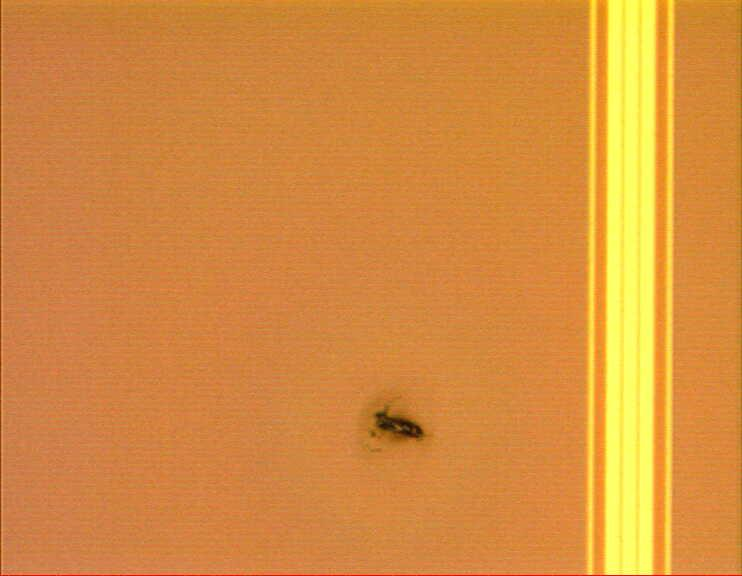PIQ PARTICLE: (354, 389, 428, 456)
